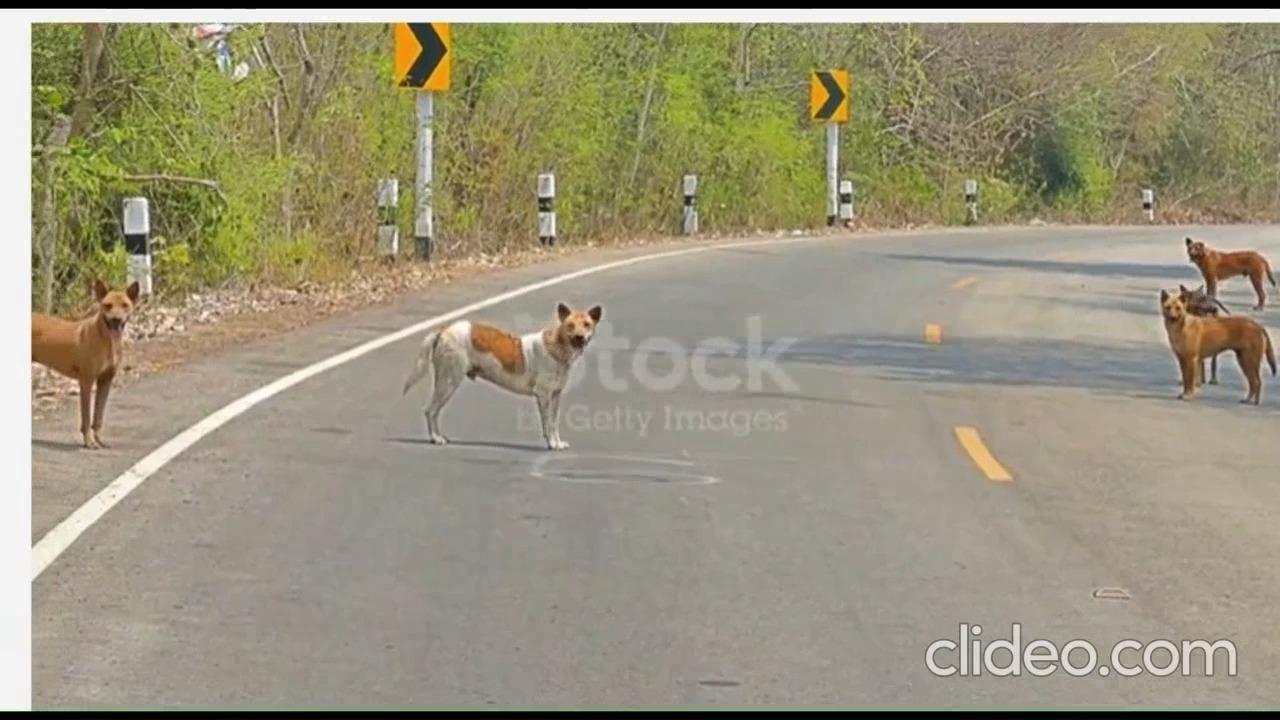dog: (407, 297, 602, 453), (31, 275, 148, 446), (1153, 289, 1278, 416), (1178, 236, 1278, 308)
